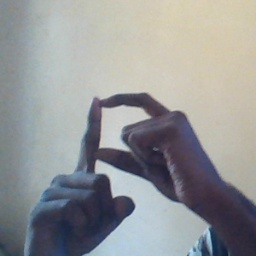D: (59, 84, 181, 206)
